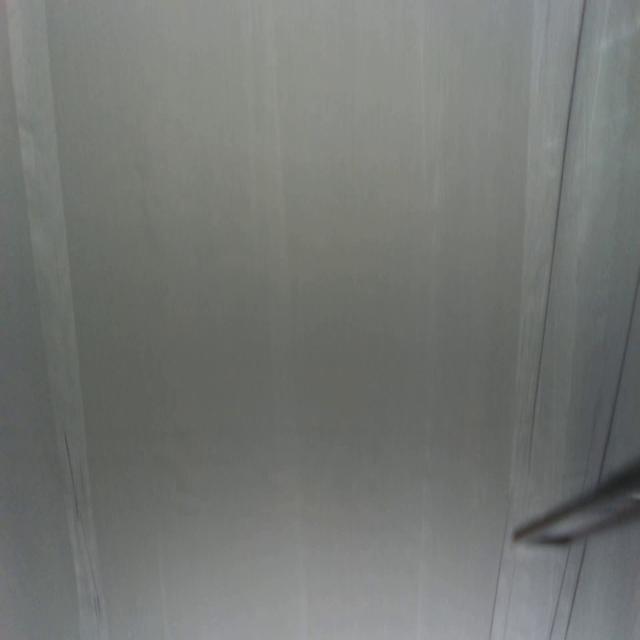crease: (4, 0, 109, 632), (522, 0, 593, 472), (597, 271, 640, 478), (482, 498, 514, 640), (563, 539, 592, 637), (547, 546, 573, 640)
